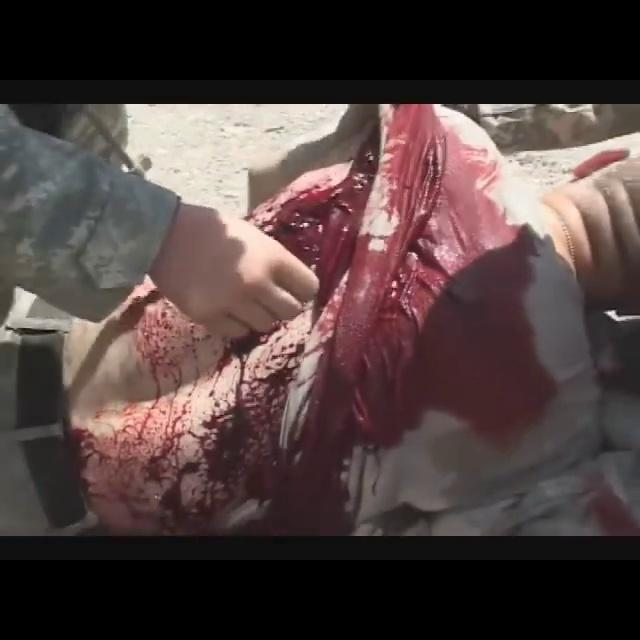blood: (79, 105, 551, 534), (581, 487, 640, 545)
